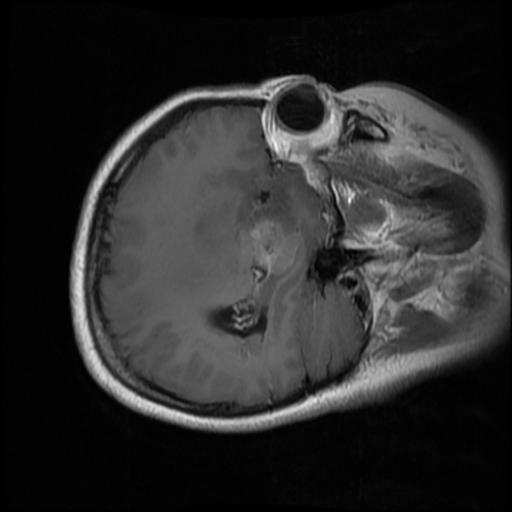glioma: (237, 128, 297, 234)
